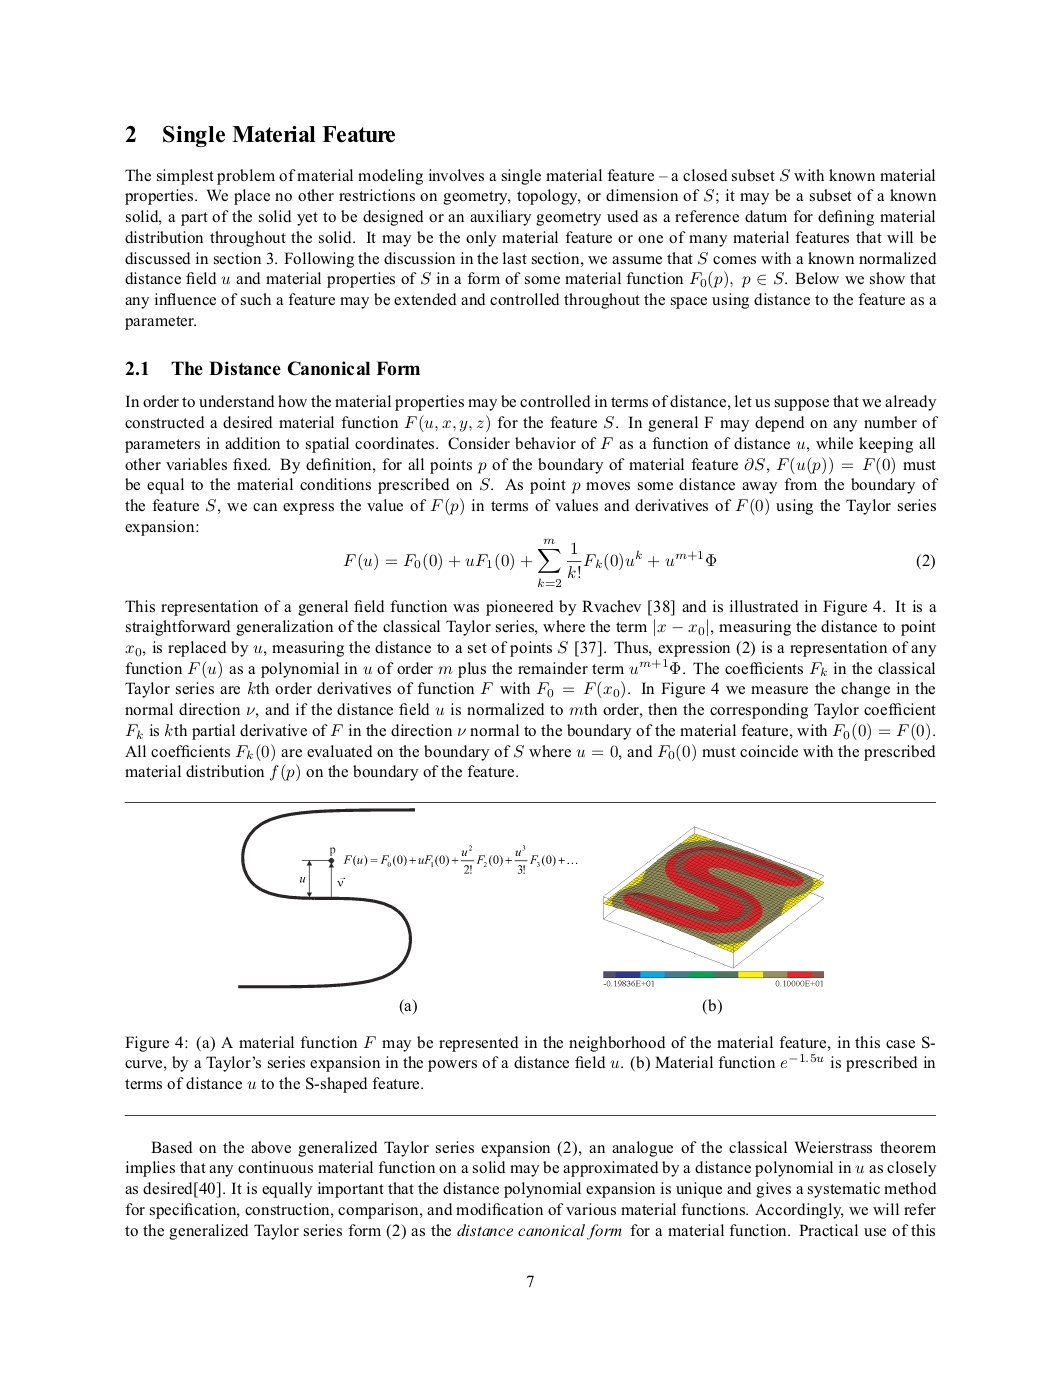figure: (239, 808, 577, 989), (603, 826, 822, 986)
formula: (343, 537, 934, 587)
